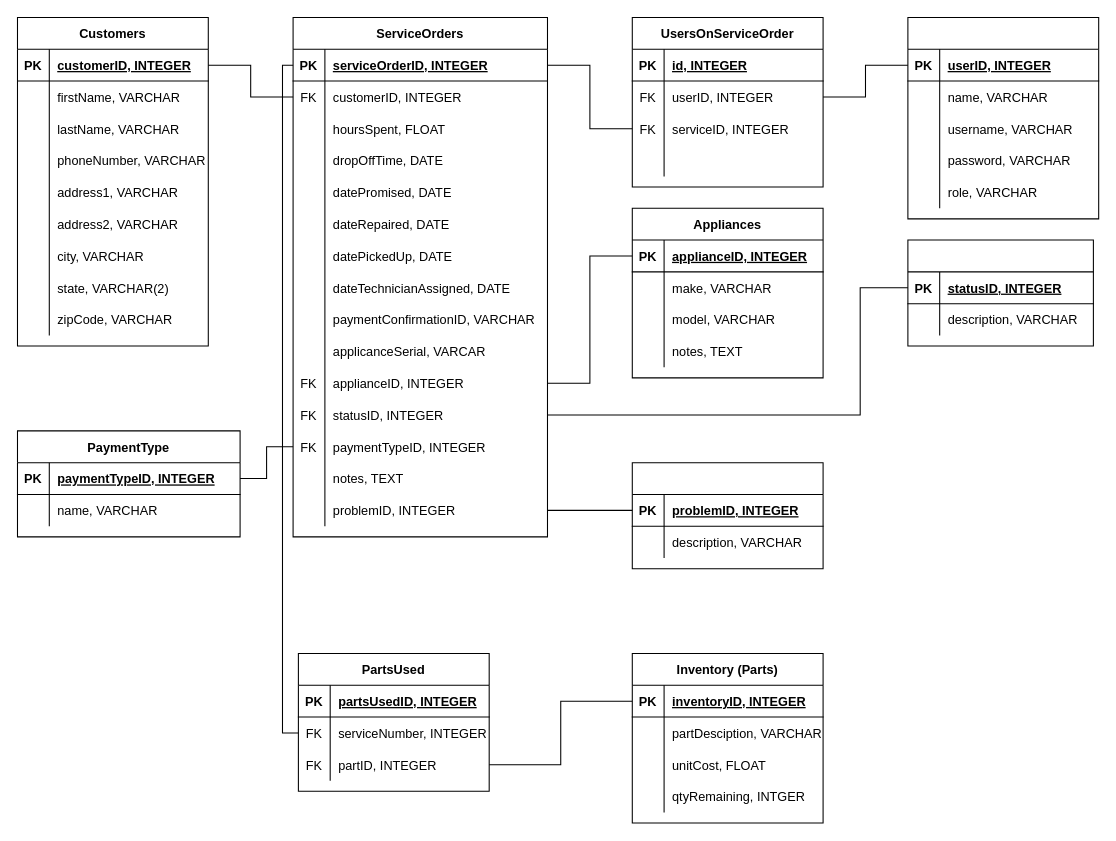
Some shapes in this 1116 by 841 pixel diagram are drawn without their labels. The box of each missing label's shape, as (x1, y1, x2, y2) in pixels:
Problems: (631, 462, 823, 569)
RepairStatuses: (907, 239, 1093, 346)
Users: (907, 16, 1099, 219)
